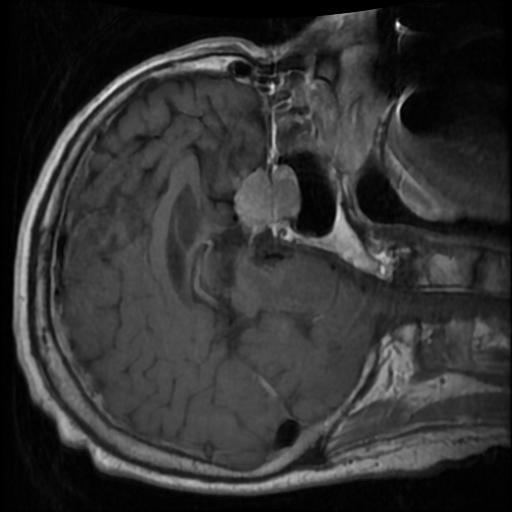pituitary tumour: (231, 165, 298, 231)
